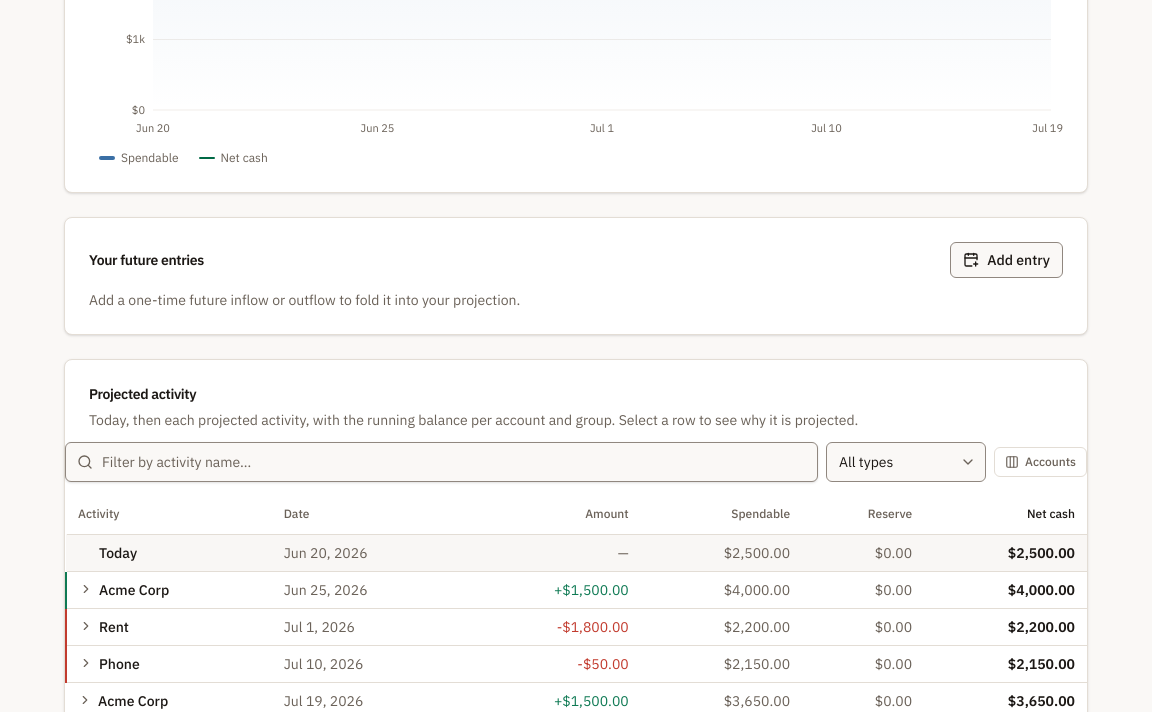
FutureCashView › reveals a typed explanation when a table row is clicked (vkge)
(page scrolled)
Click the button "Rent" at (104, 626), box x1=79 y1=616 x2=129 y2=636
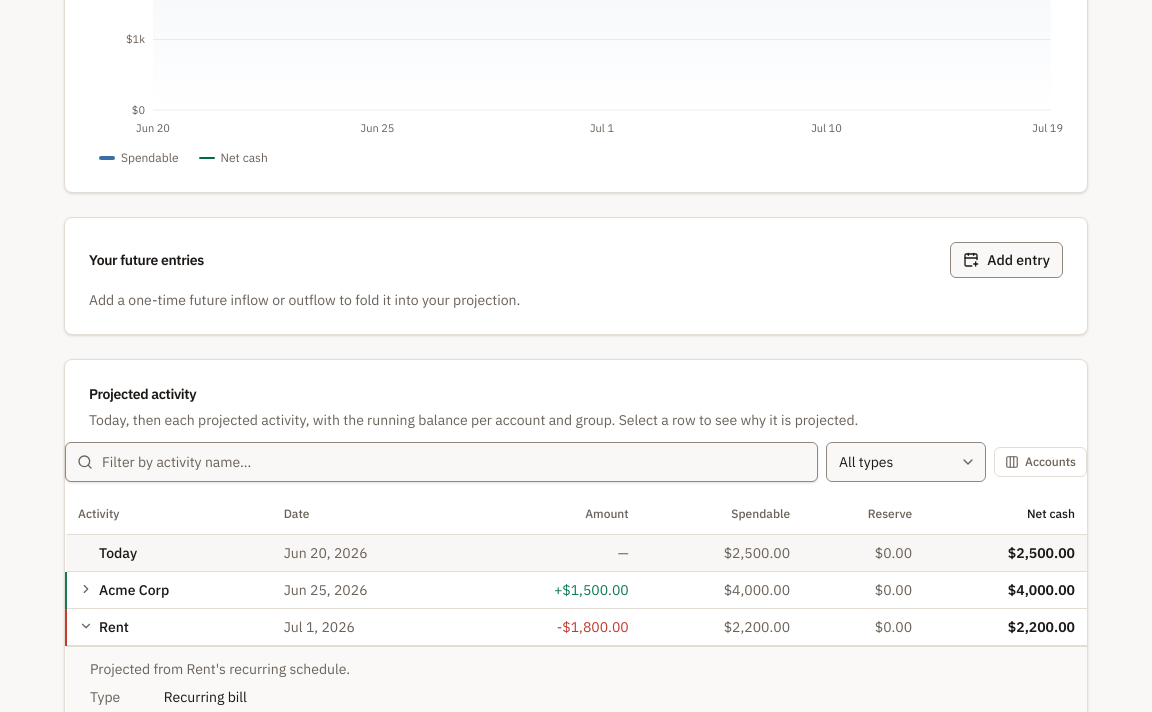
Check: the button "Rent" is expanded
// Clicking again collapses it.
Click the button "Rent" at (104, 626), box x1=79 y1=616 x2=129 y2=636
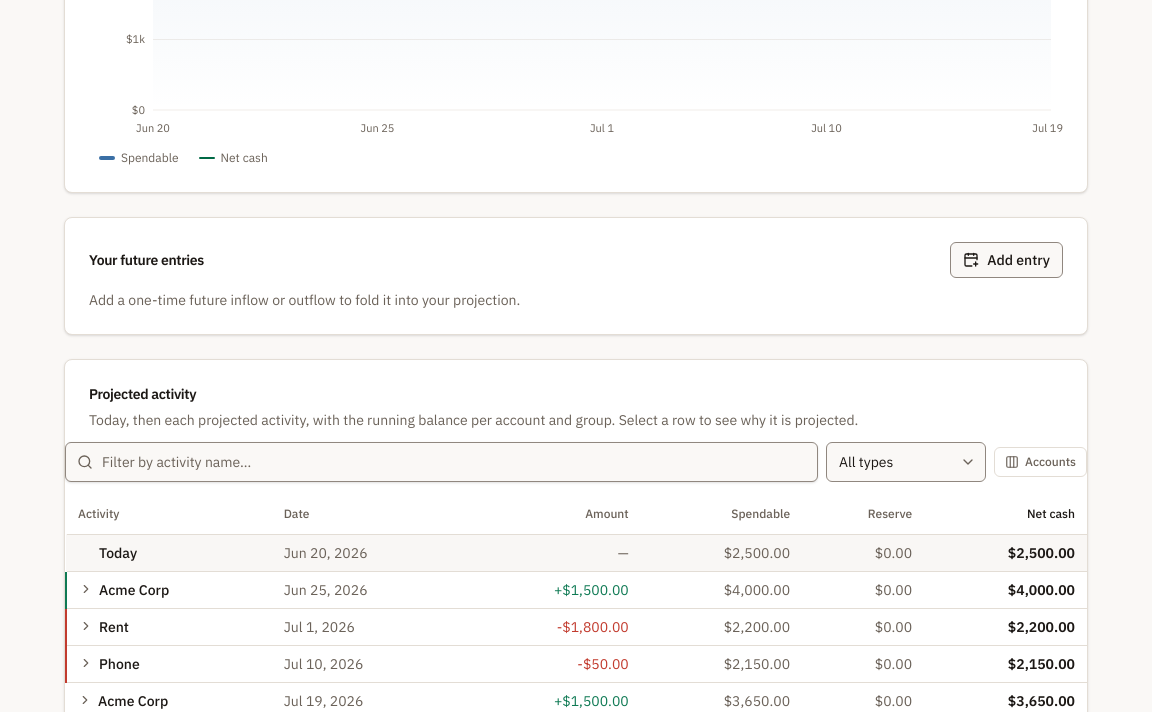
Check: the button "Rent" is collapsed, box x1=79 y1=616 x2=129 y2=636
